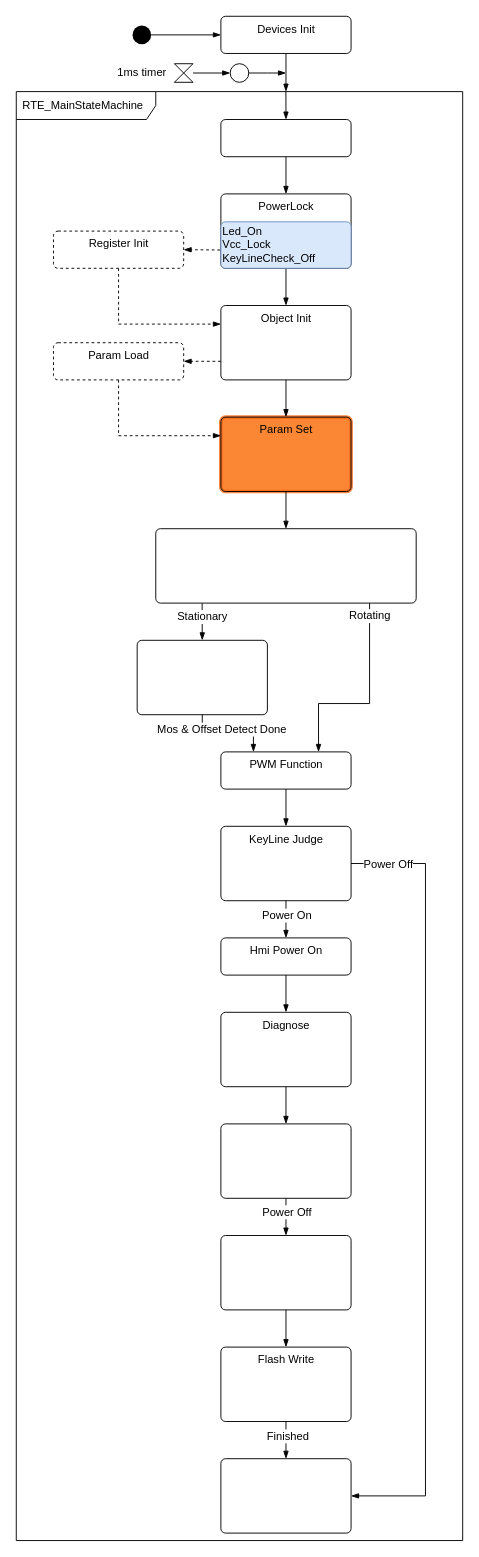
This 479x1557 diagram has some shape labels left out. The centre of each missing label's shape, as x and y in pixels:
#Idel: point 285,138
Current Offset: point 201,677
Hmi Power Off: point 285,1272
Motor Judge: point 285,565
Power Run: point 285,1160
Power UnLock: point 285,1495
